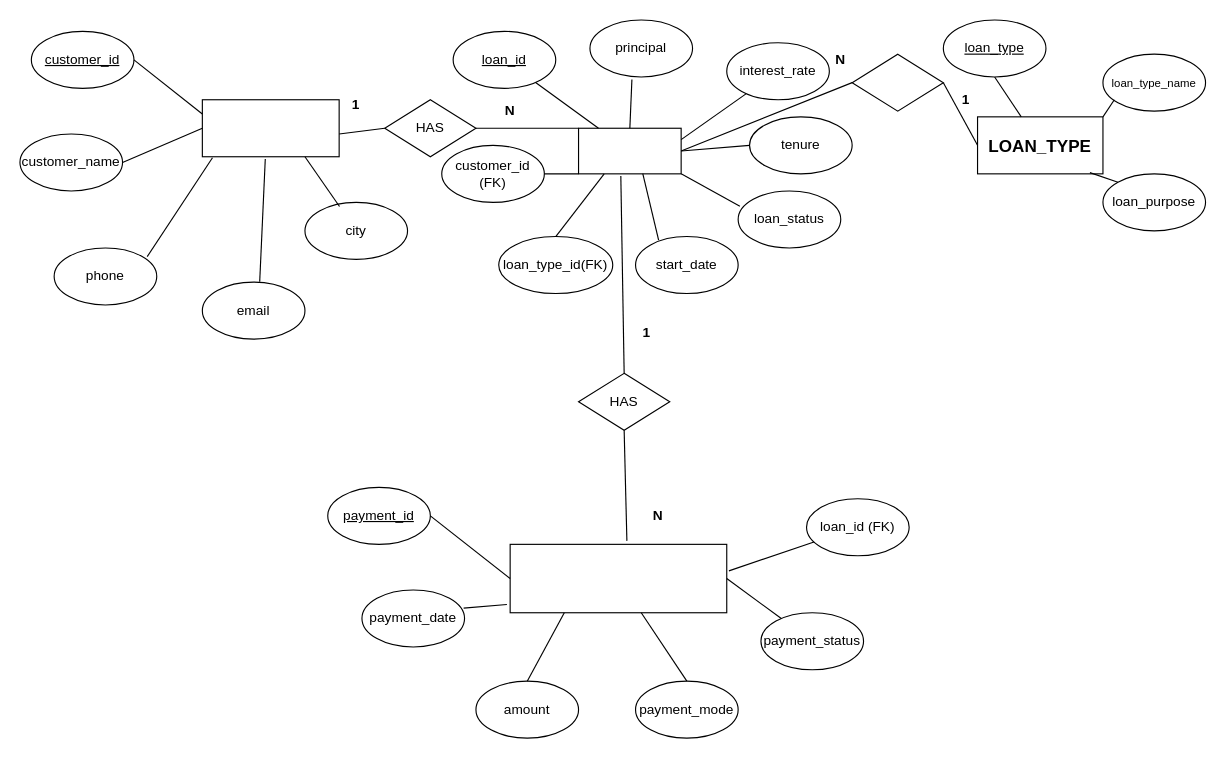
Some shapes in this 1226 by 758 pixel diagram are drawn without their labels. The shapes that lost their labels are listed below. From the top down, each one's box as (x1, y1, x2, y2) in pixels, then its label:
(851, 53, 943, 111): CLASSIFIES
(201, 99, 339, 157): CUSTOMERS
(577, 127, 681, 174): LOAN
(509, 543, 727, 613): LOAN_PAYMENT
